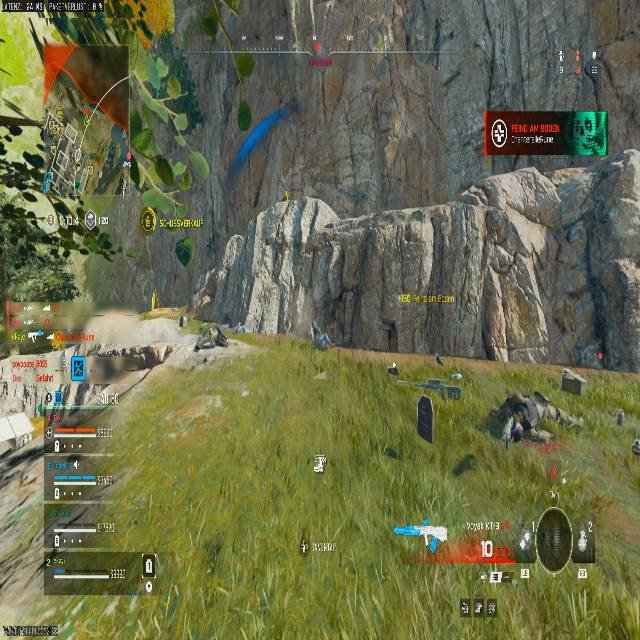player: (495, 392, 550, 444), (381, 315, 399, 352)
